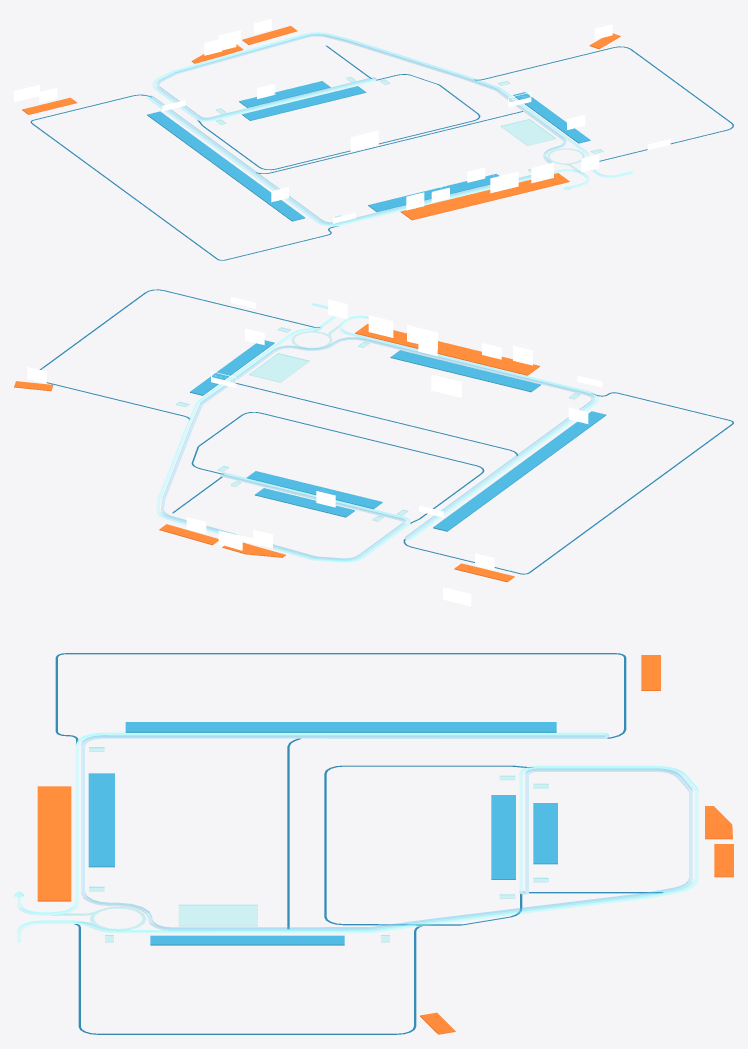
Rendered from 04_Ammenities_Overlay.glb.
3 renders of one model, top to bottom at view 1: azimuth 30°, elevation 25°; view 2: azimuth 150°, elevation 25°; view 3: azimuth 270°, elevation 25°, orthographic. The views are drawn at different scales.
Parts seen in each view (by area): view 1: SM_INFO_MainRoadLines, SM_INFO_ServiceRoadLine, SM_INFO_PARKING_B300, SM_INFO_PARKING_B400, Car_Parking, SM_INFO_AMENITIES_02, SM_INFO_PARKING_B100, SM_INFO_AMENITIES_01, SM_INFO_PARKING_B200, SM_INFO_PARKING_B500, SM_AMNT_ANNO_FMO, SM_AMNT_ANNO_RoofTopSolarpanel; view 2: SM_INFO_MainRoadLines, SM_INFO_ServiceRoadLine, SM_INFO_PARKING_B300, SM_INFO_PARKING_B100, Car_Parking, SM_INFO_PARKING_B400, SM_INFO_PARKING_B200, SM_INFO_AMENITIES_01, SM_INFO_PARKING_B500, SM_INFO_AMENITIES_02, SM_AMNT_ANNO_RoofTopSolarpanel; view 3: SM_INFO_MainRoadLines, SM_INFO_ServiceRoadLine, SM_INFO_PARKING_B300, SM_INFO_PARKING_B100, SM_INFO_AMENITIES_02, Car_Parking, SM_INFO_PARKING_B200, SM_INFO_PARKING_B400, SM_INFO_AMENITIES_01, SM_INFO_PARKING_B500, SM_INFO_AMENITIES_04.001, SM_INFO_AMENITIES_03 (+1 smaller).
Boxes of the visible parts, x1=… form: SM_INFO_MainRoadLines: x1=147, y1=32, x2=632, y2=226; SM_INFO_ServiceRoadLine: x1=30, y1=45, x2=733, y2=260; SM_INFO_PARKING_B300: x1=147, y1=111, x2=305, y2=221; SM_INFO_PARKING_B400: x1=242, y1=86, x2=366, y2=120; Car_Parking: x1=216, y1=77, x2=602, y2=217; SM_INFO_AMENITIES_02: x1=468, y1=173, x2=569, y2=203; SM_INFO_PARKING_B100: x1=368, y1=173, x2=499, y2=211; SM_INFO_AMENITIES_01: x1=400, y1=195, x2=478, y2=220; SM_INFO_PARKING_B200: x1=513, y1=92, x2=590, y2=143; SM_INFO_PARKING_B500: x1=239, y1=81, x2=330, y2=107; SM_AMNT_ANNO_FMO: x1=490, y1=169, x2=518, y2=193; SM_AMNT_ANNO_RoofTopSolarpanel: x1=350, y1=129, x2=378, y2=151; SM_INFO_MainRoadLines: x1=157, y1=303, x2=598, y2=562; SM_INFO_ServiceRoadLine: x1=39, y1=289, x2=733, y2=574; SM_INFO_PARKING_B300: x1=433, y1=411, x2=606, y2=531; SM_INFO_PARKING_B100: x1=390, y1=350, x2=540, y2=392; Car_Parking: x1=176, y1=327, x2=579, y2=521; SM_INFO_PARKING_B400: x1=246, y1=471, x2=382, y2=509; SM_INFO_PARKING_B200: x1=190, y1=340, x2=274, y2=395; SM_INFO_AMENITIES_01: x1=454, y1=348, x2=539, y2=375; SM_INFO_PARKING_B500: x1=255, y1=488, x2=354, y2=517; SM_INFO_AMENITIES_02: x1=355, y1=324, x2=466, y2=357; SM_AMNT_ANNO_RoofTopSolarpanel: x1=431, y1=372, x2=461, y2=397; SM_INFO_MainRoadLines: x1=14, y1=733, x2=698, y2=942; SM_INFO_ServiceRoadLine: x1=55, y1=653, x2=663, y2=1034; SM_INFO_PARKING_B300: x1=125, y1=722, x2=556, y2=732; SM_INFO_PARKING_B100: x1=88, y1=773, x2=114, y2=867; SM_INFO_AMENITIES_02: x1=37, y1=834, x2=71, y2=901; Car_Parking: x1=89, y1=747, x2=548, y2=942; SM_INFO_PARKING_B200: x1=150, y1=935, x2=344, y2=945; SM_INFO_PARKING_B400: x1=491, y1=795, x2=515, y2=879; SM_INFO_AMENITIES_01: x1=37, y1=786, x2=71, y2=834; SM_INFO_PARKING_B500: x1=533, y1=803, x2=557, y2=864; SM_INFO_AMENITIES_04.001: x1=705, y1=806, x2=732, y2=839; SM_INFO_AMENITIES_03: x1=641, y1=655, x2=660, y2=690.
Size of the model in its own units: 30.97 by 2.71 by 24.56.
8 materials, 1 textured.
